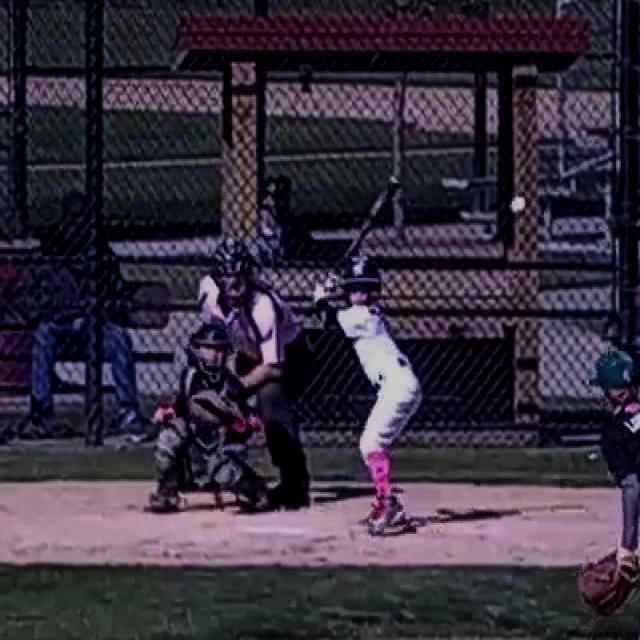baseball: (510, 198, 524, 212)
